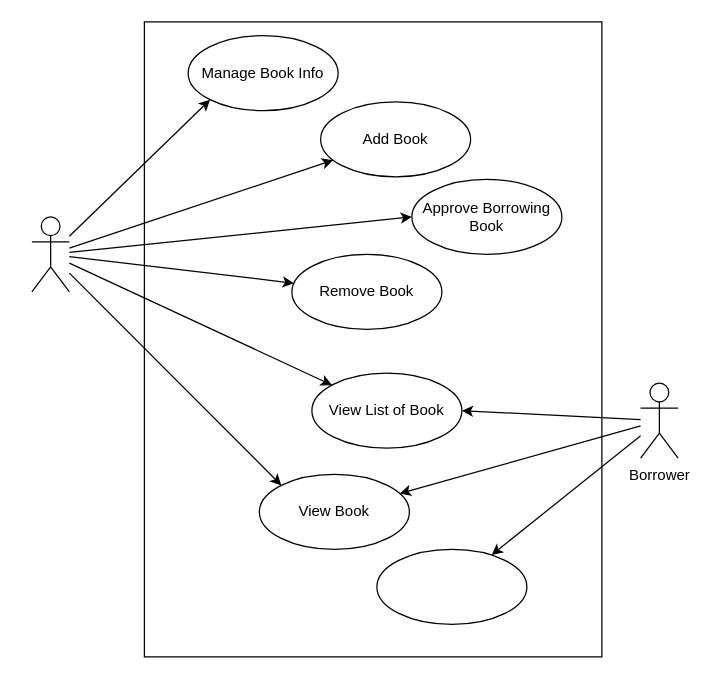
This 711x679 diagram has some shape labels left out. The shapes that lost their labels are listed below. From the top down, each one's box as (x1, y1, x2, y2) in pixels, then its label:
(31, 216, 69, 292): Librarian
(376, 548, 527, 624): Borrow Request
